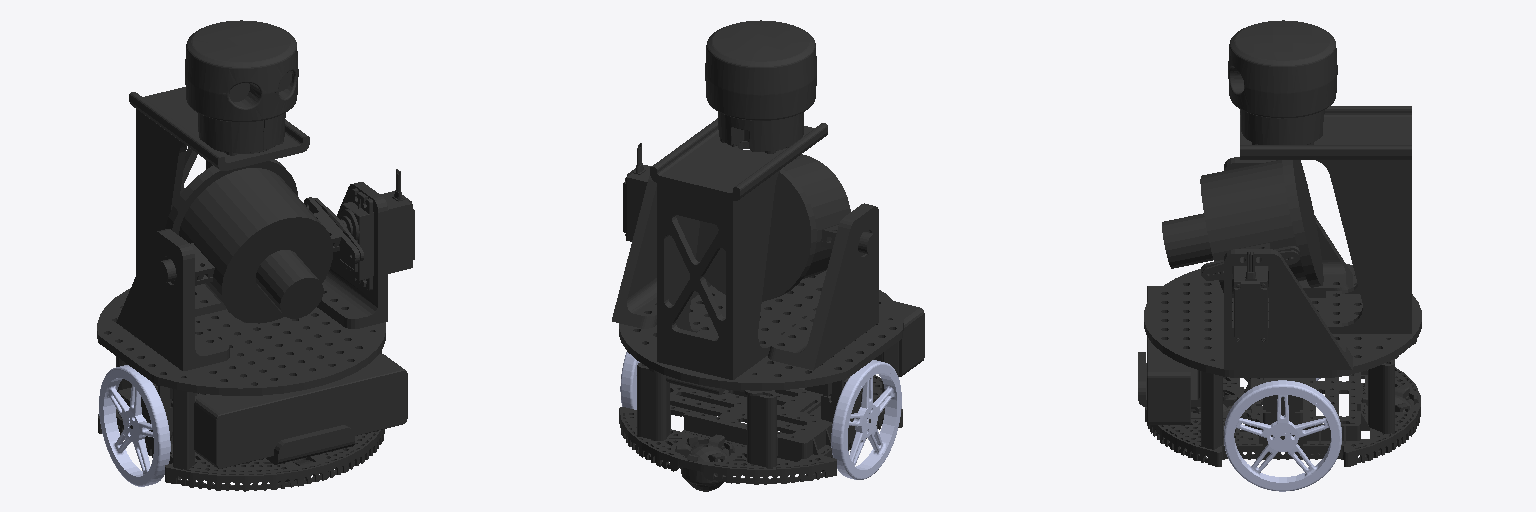
robot.urdf — turtlebot_mini:
<robot
  name="turtlebot_mini">
  <link
    name="base_link">
    <inertial>
      <origin
        xyz="0.0011869 -0.007673 0.12049"
        rpy="0 0 0" />
      <mass
        value="1.0554" />
      <inertia
        ixx="0.0052103"
        ixy="1.2067E-05"
        ixz="2.6478E-06"
        iyy="0.0048109"
        iyz="-0.00060988"
        izz="0.0016014" />
    </inertial>
    <visual>
      <origin
        xyz="0 0 0"
        rpy="0 0 0" />
      <geometry>
        <mesh
          filename="package://turtlebot_mini/meshes/base_link.stl" />
      </geometry>
      <material
        name="">
        <color
          rgba="0.25098 0.25098 0.25098 1" />
      </material>
    </visual>
    <collision>
      <origin
        xyz="0 0 0"
        rpy="0 0 0" />
      <geometry>
        <mesh
          filename="package://turtlebot_mini/meshes/base_link.stl" />
      </geometry>
    </collision>
  </link>
  <link
    name="wheel_left_link">
    <inertial>
      <origin
        xyz="0.0069553 1.1547E-06 -2.619E-07"
        rpy="0 0 0" />
      <mass
        value="0.012859" />
      <inertia
        ixx="0"
        ixy="0"
        ixz="0"
        iyy="0"
        iyz="0"
        izz="0" />
    </inertial>
    <visual>
      <origin
        xyz="0 0 0"
        rpy="0 0 0" />
      <geometry>
        <mesh
          filename="package://turtlebot_mini/meshes/wheel_left_link.stl" />
      </geometry>
      <material
        name="">
        <color
          rgba="0.79216 0.81961 0.93333 1" />
      </material>
    </visual>
    <collision>
      <origin
        xyz="0 0 0"
        rpy="0 0 0" />
      <geometry>
        <mesh
          filename="package://turtlebot_mini/meshes/wheel_left_link.stl" />
      </geometry>
    </collision>
  </link>
  <joint
    name="wheel_left_joint"
    type="continuous">
    <origin
      xyz="0.063388 0 0.035"
      rpy="1.5708 0 0" />
    <parent
      link="base_link" />
    <child
      link="wheel_left_link" />
    <axis
      xyz="1 0 0" />
  </joint>
  <link
    name="wheel_right_link">
    <inertial>
      <origin
        xyz="0.0069553 1.1547E-06 -2.619E-07"
        rpy="0 0 0" />
      <mass
        value="0.012859" />
      <inertia
        ixx="0"
        ixy="0"
        ixz="0"
        iyy="0"
        iyz="0"
        izz="0" />
    </inertial>
    <visual>
      <origin
        xyz="0 0 0"
        rpy="0 0 0" />
      <geometry>
        <mesh
          filename="package://turtlebot_mini/meshes/wheel_right_link.stl" />
      </geometry>
      <material
        name="">
        <color
          rgba="0.79216 0.81961 0.93333 1" />
      </material>
    </visual>
    <collision>
      <origin
        xyz="0 0 0"
        rpy="0 0 0" />
      <geometry>
        <mesh
          filename="package://turtlebot_mini/meshes/wheel_right_link.stl" />
      </geometry>
    </collision>
  </link>
  <joint
    name="wheel_right_joint"
    type="continuous">
    <origin
      xyz="-0.063388 0 0.035"
      rpy="2.7498 0 3.1416" />
    <parent
      link="base_link" />
    <child
      link="wheel_right_link" />
    <axis
      xyz="-1 0 0" />
  </joint>
</robot>

--- Render facts (derived) ---
The picture shows the robot from 3 angles, left to right: view 1: azimuth 30°, elevation 25°; view 2: azimuth 150°, elevation 25°; view 3: azimuth 270°, elevation 25°; orthographic projection.
Robot: turtlebot_mini — 3 links, 2 joints (2 continuous); root link base_link; default pose: all joints at 0.
Visible links, largest first — view 1: base_link, wheel_right_link; view 2: base_link, wheel_right_link, wheel_left_link; view 3: base_link, wheel_left_link.
Boxes of the visible links, x1,y1,x2,y2 form: base_link: [97, 20, 414, 491]; wheel_right_link: [99, 365, 170, 486]; base_link: [612, 20, 924, 491]; wheel_right_link: [831, 360, 901, 479]; wheel_left_link: [620, 352, 639, 409]; base_link: [1138, 20, 1421, 466]; wheel_left_link: [1224, 380, 1341, 491].
Bounding box of the posed robot: 0.1737 × 0.168 × 0.2615 m (x, y, z).
3 mesh visuals loaded from 3 distinct referenced files (3 binary STL).